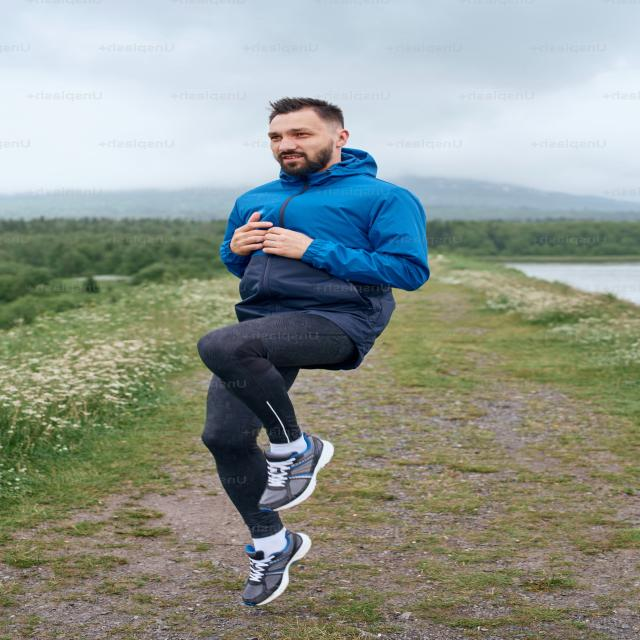adult: (192, 99, 432, 608)
